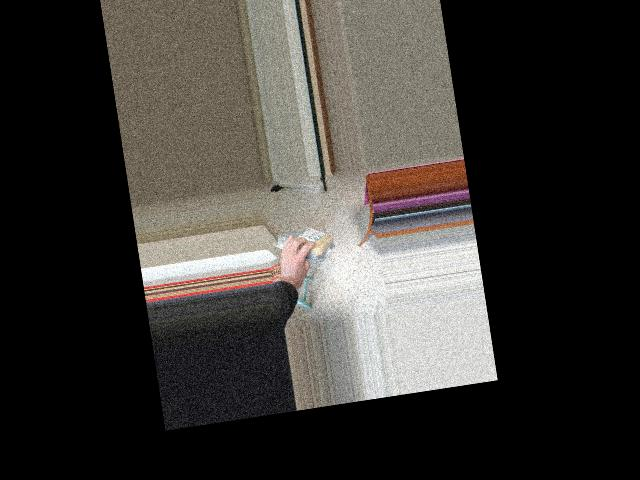cheese: (271, 223, 336, 262)
